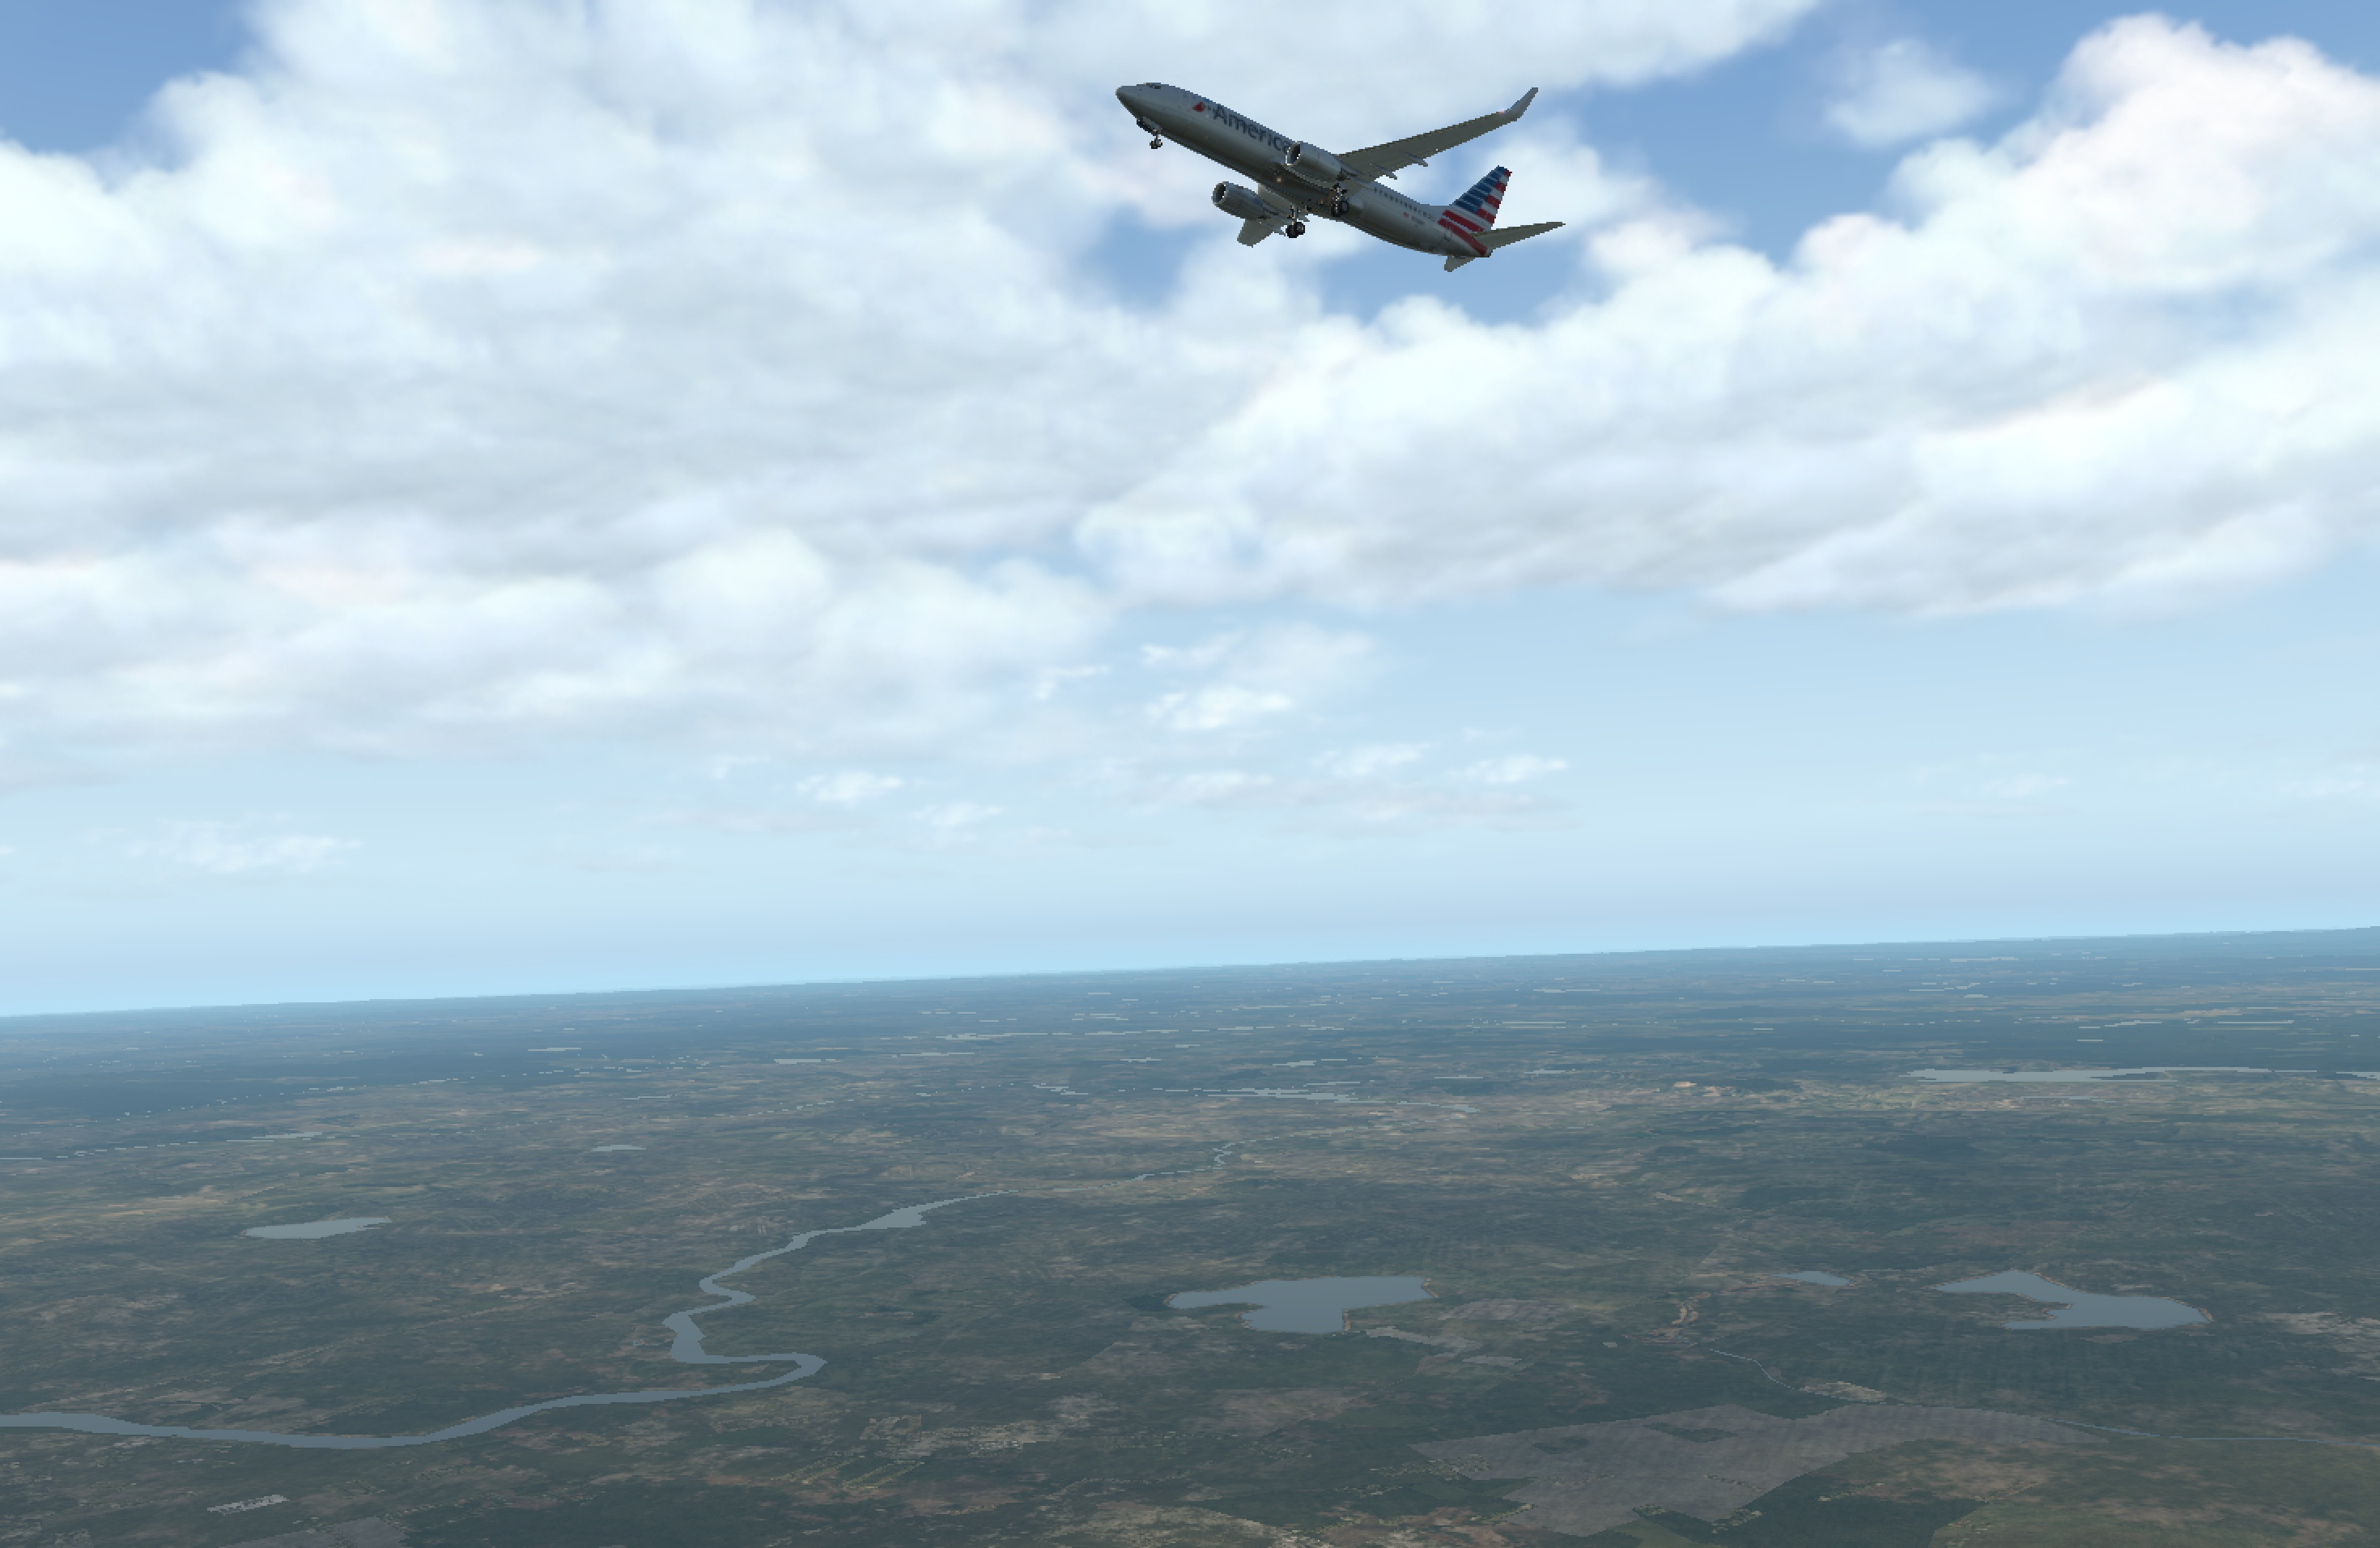aircraft: (1070, 95, 1544, 274)
